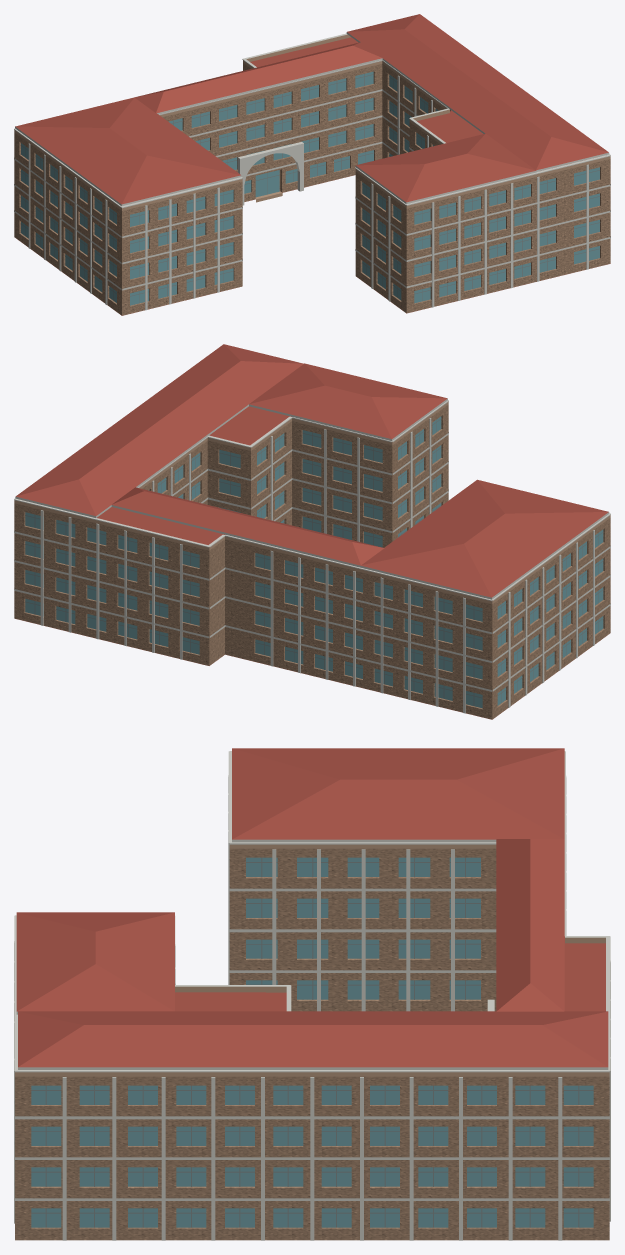
The picture shows the model from 3 angles, top to bottom: view 1: azimuth 30°, elevation 25°; view 2: azimuth 150°, elevation 25°; view 3: azimuth 270°, elevation 25°; orthographic projection. The views are drawn at different scales.
Parts seen in each view (by area): view 1: theology__wall, theology__roof, theology__glass, theology__trim, theology__parapet, theology__frame; view 2: theology__wall, theology__roof, theology__glass, theology__trim, theology__frame, theology__parapet; view 3: theology__roof, theology__wall, theology__glass, theology__trim, theology__parapet, theology__frame.
Part boxes in pixels (left/top/right/bottom): theology__wall: left=14, top=63, right=610, bottom=315; theology__roof: left=15, top=14, right=610, bottom=315; theology__glass: left=21, top=71, right=599, bottom=305; theology__trim: left=14, top=32, right=610, bottom=310; theology__parapet: left=14, top=34, right=610, bottom=210; theology__frame: left=20, top=74, right=600, bottom=303; theology__wall: left=14, top=404, right=610, bottom=719; theology__roof: left=15, top=344, right=608, bottom=719; theology__glass: left=25, top=416, right=603, bottom=708; theology__trim: left=14, top=398, right=610, bottom=713; theology__frame: left=25, top=418, right=603, bottom=705; theology__parapet: left=14, top=402, right=610, bottom=604; theology__roof: left=16, top=748, right=608, bottom=1067; theology__wall: left=15, top=848, right=609, bottom=1240; theology__glass: left=31, top=857, right=593, bottom=1227; theology__trim: left=14, top=751, right=610, bottom=1240; theology__parapet: left=15, top=844, right=609, bottom=1076; theology__frame: left=31, top=857, right=593, bottom=1227.
Size of the model in its own units: 60.56 by 16.85 by 47.66.
Materials: 8 (1 with a texture image).
